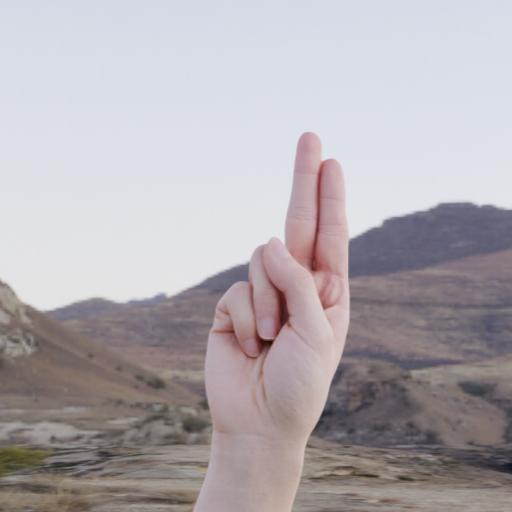U: (185, 122, 364, 453)
